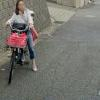bicycles: (5, 22, 31, 90)
